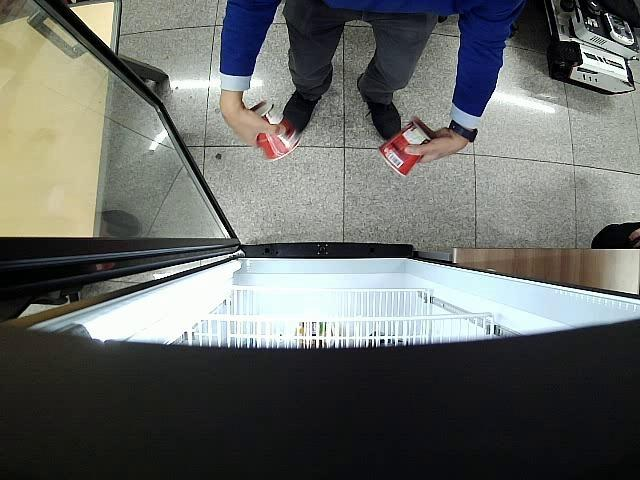02_shinRamen_S: (378, 115, 436, 176), (250, 100, 302, 162)
